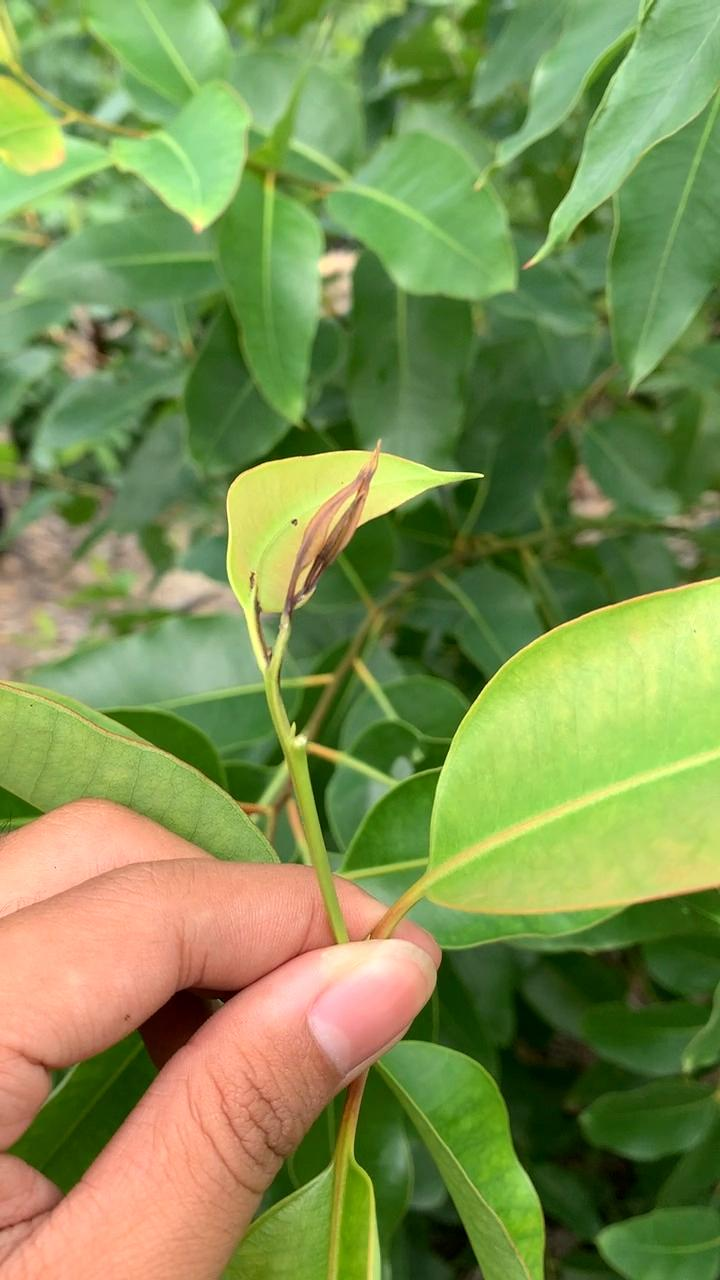Helopeltis-Withered Sprout: (286, 455, 389, 624)
